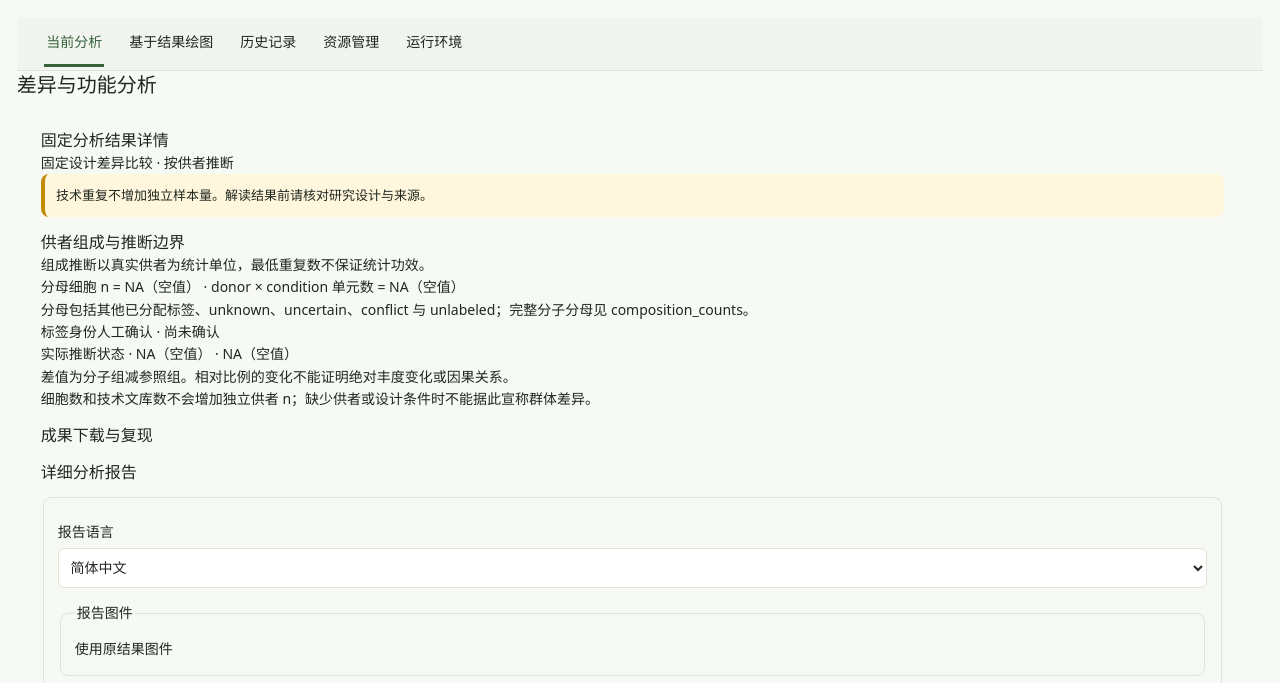
opens a fixed composition result as a figure-only plan
Click the button "基于结果绘图" at {"x": 171, "y": 44}, box [127, 20, 215, 67]
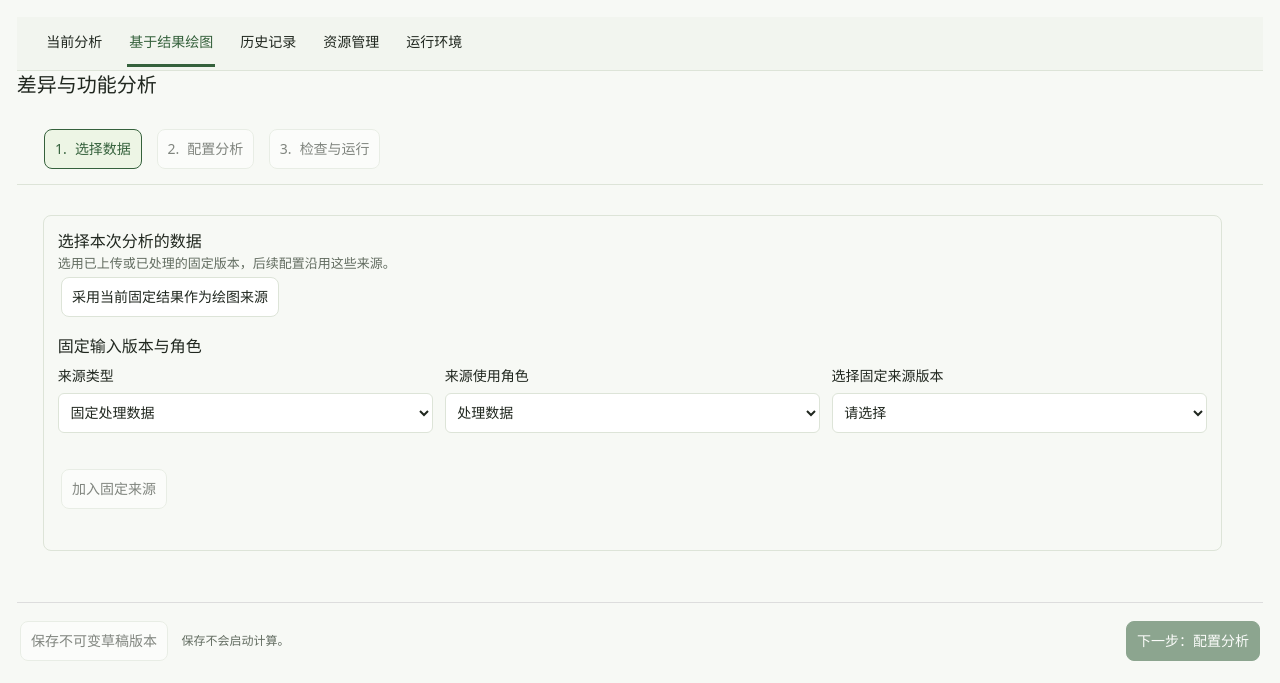
Click the button "采用当前固定结果作为绘图来源" at {"x": 170, "y": 297}, box [61, 277, 279, 317]
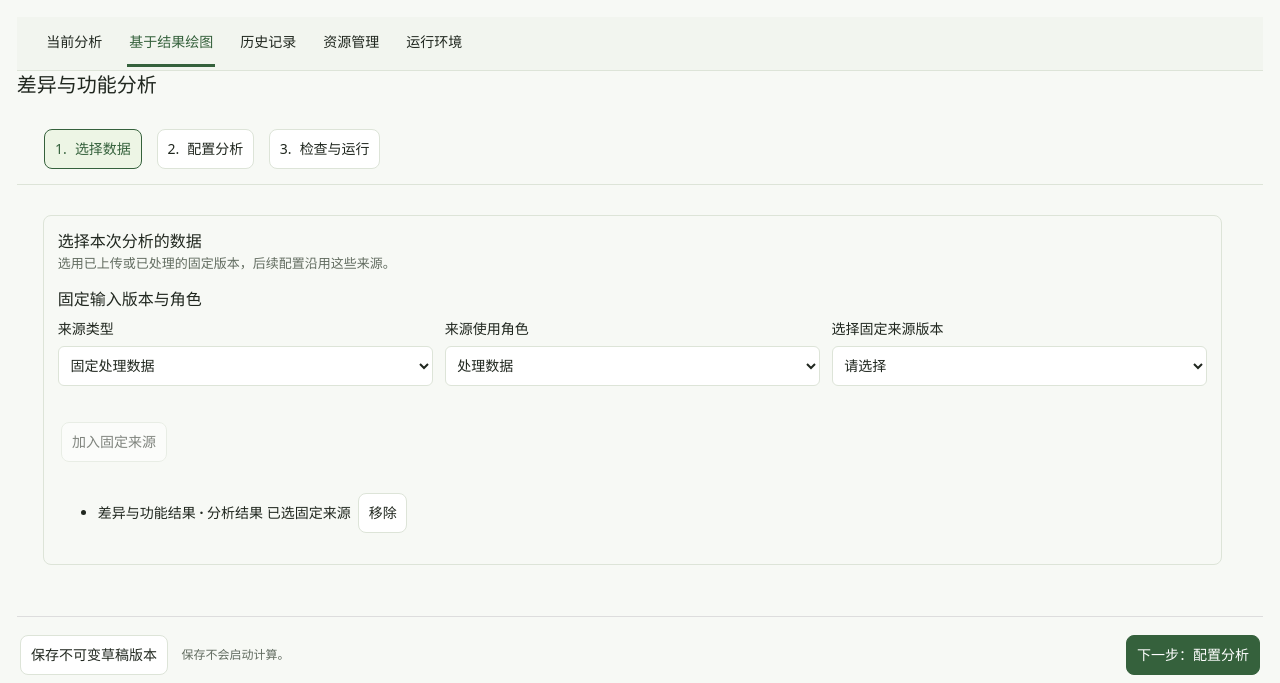
Click the button "2. 配置分析" at {"x": 205, "y": 149}, box [157, 129, 254, 169]
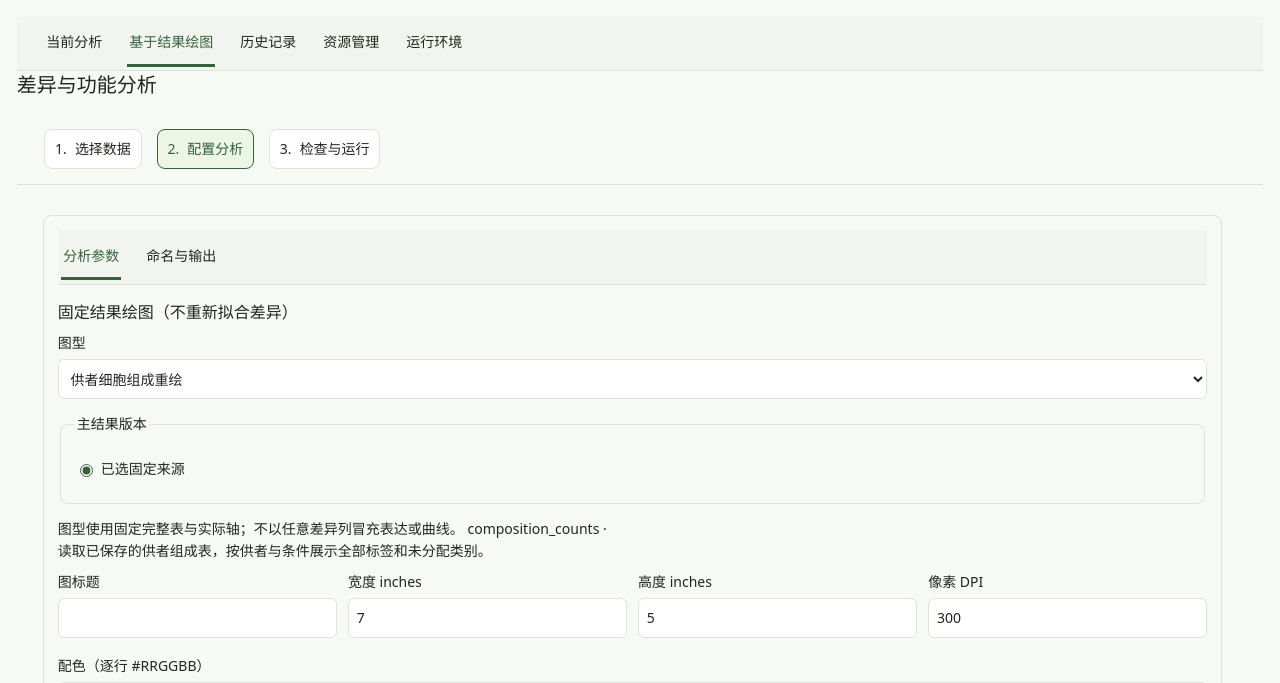
Result: the dropdown labelled "图型" shows "供者细胞组成重绘" at [58, 359, 1207, 399]
